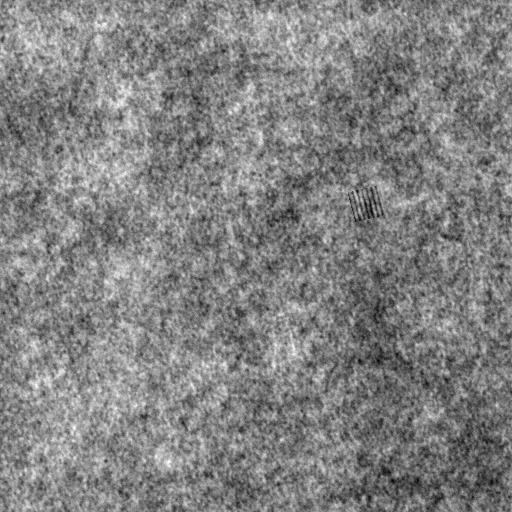impact: (345, 185, 385, 222)
